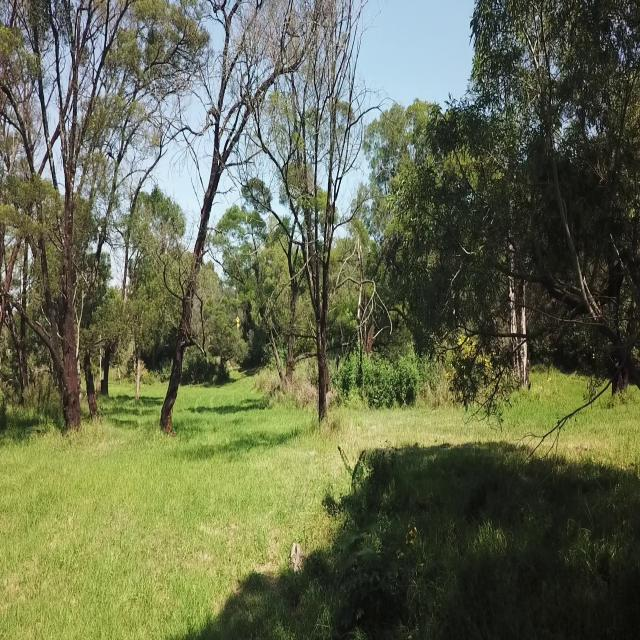Mysore-Thorn-Weed: (328, 437, 390, 640)
